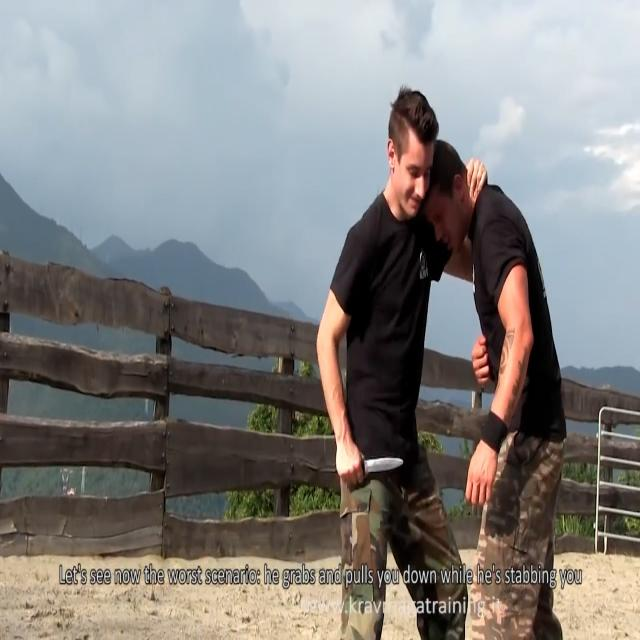knife: (362, 453, 408, 479)
